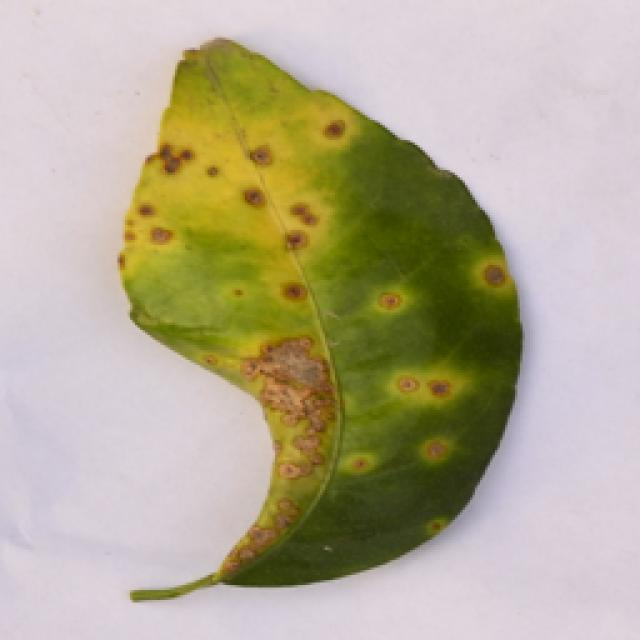canker: (114, 95, 526, 579)
